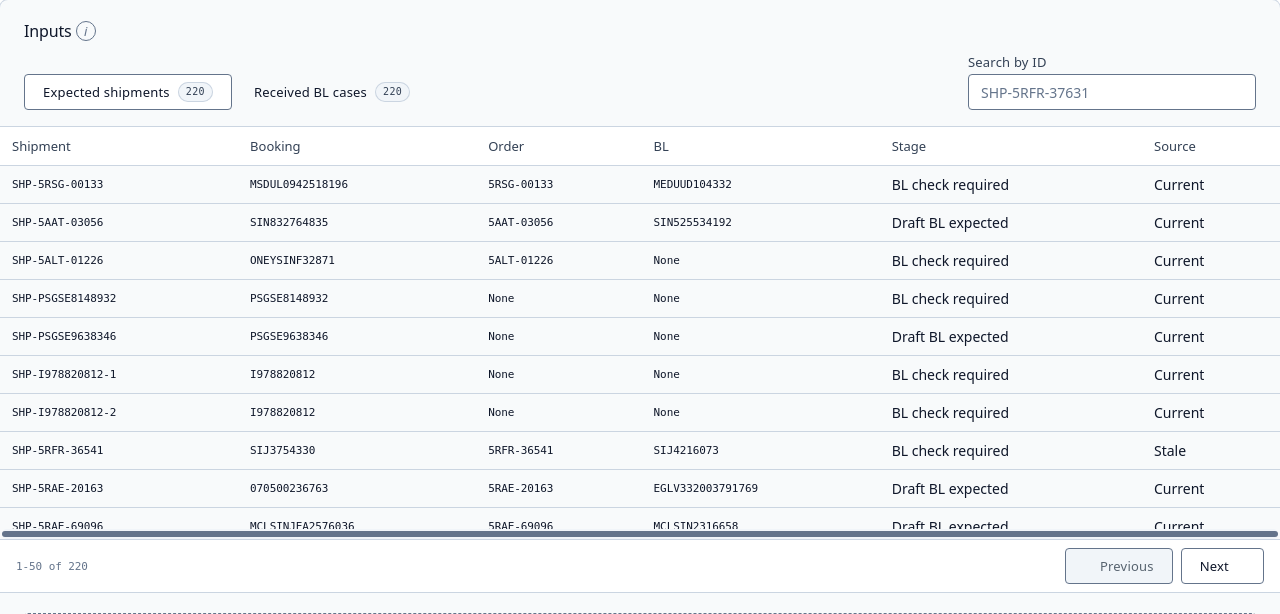
Test: ReconciliationInputs › switches to the received BL cases, each linking to its email
Click the button "Received BL cases 220".
click(332, 92)  # box left=236, top=74, right=428, bottom=110
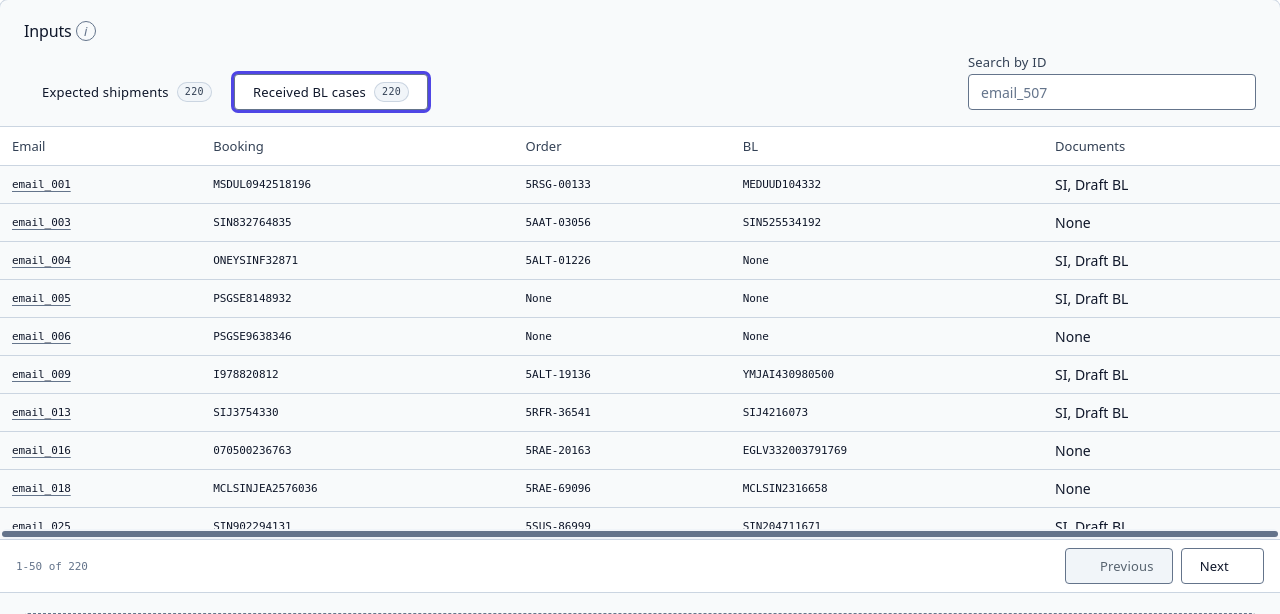
Expected: the text "SI, Draft BL" in the row of "email_001" is shown, left=1055, top=175, right=1128, bottom=194
